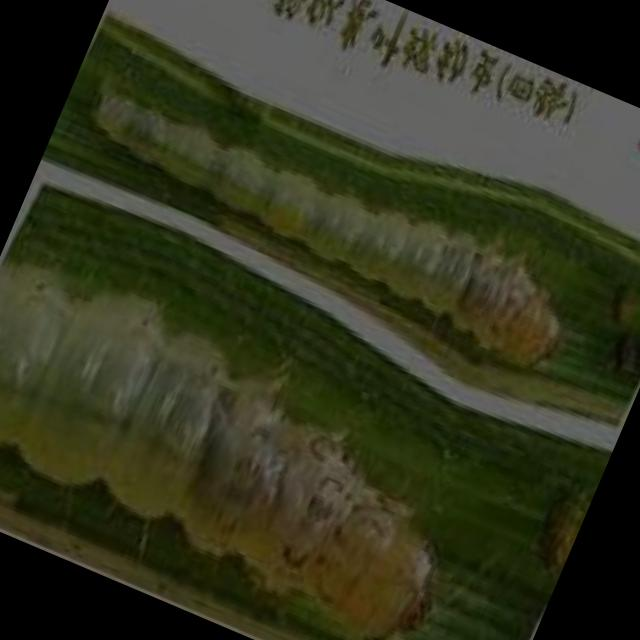leaf-folder: (37, 23, 630, 420), (0, 238, 513, 640)
